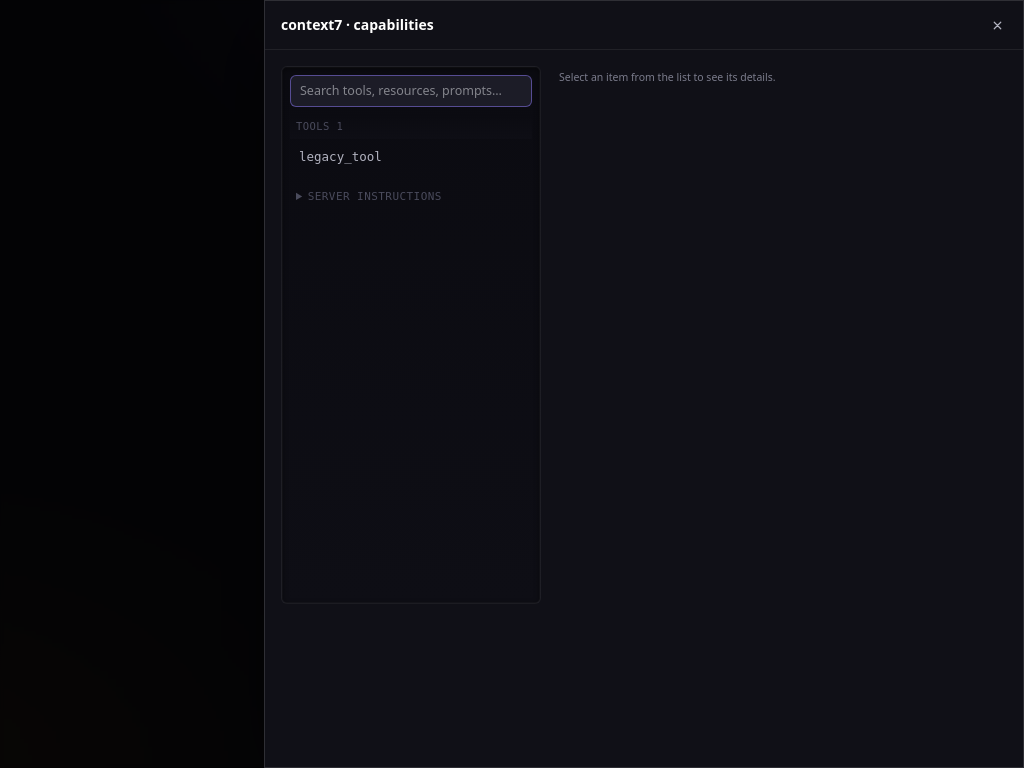
Test: MCP capability sheet: an unreadable schema says so and never shows an empty parameter list
Step 1. Click the button with test id "mcp-sheet-row" → (411, 157), box x1=290 y1=141 x2=532 y2=173
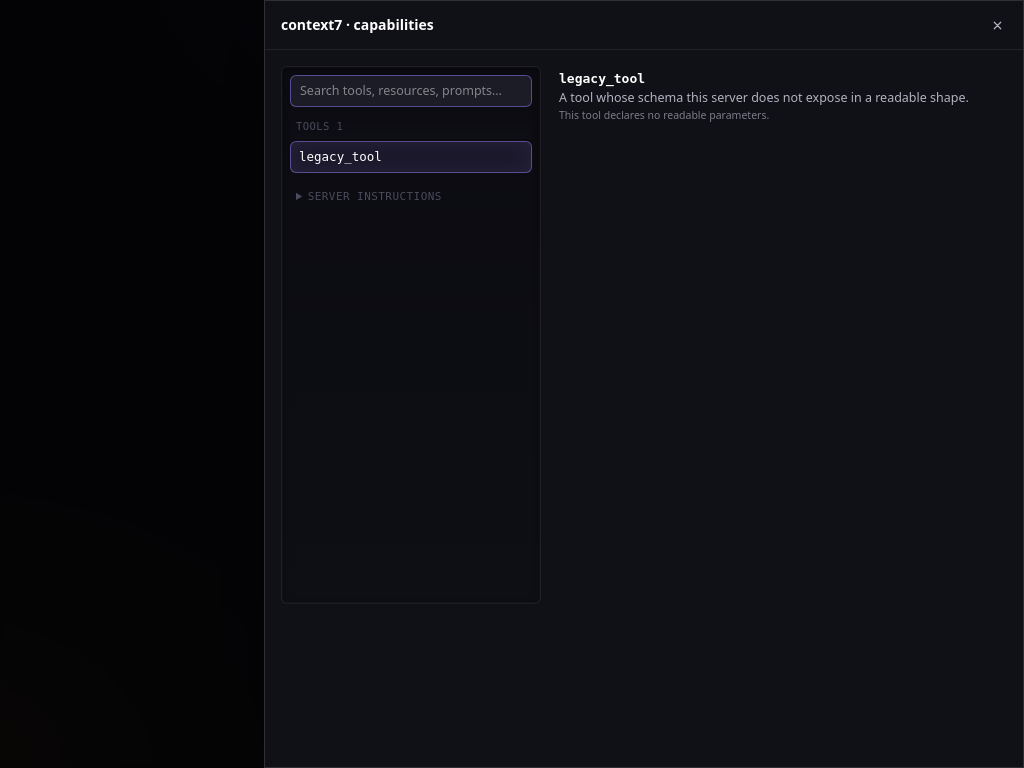
Result: the text "This tool declares no readable parameters." is shown at x1=559 y1=108 x2=769 y2=122
